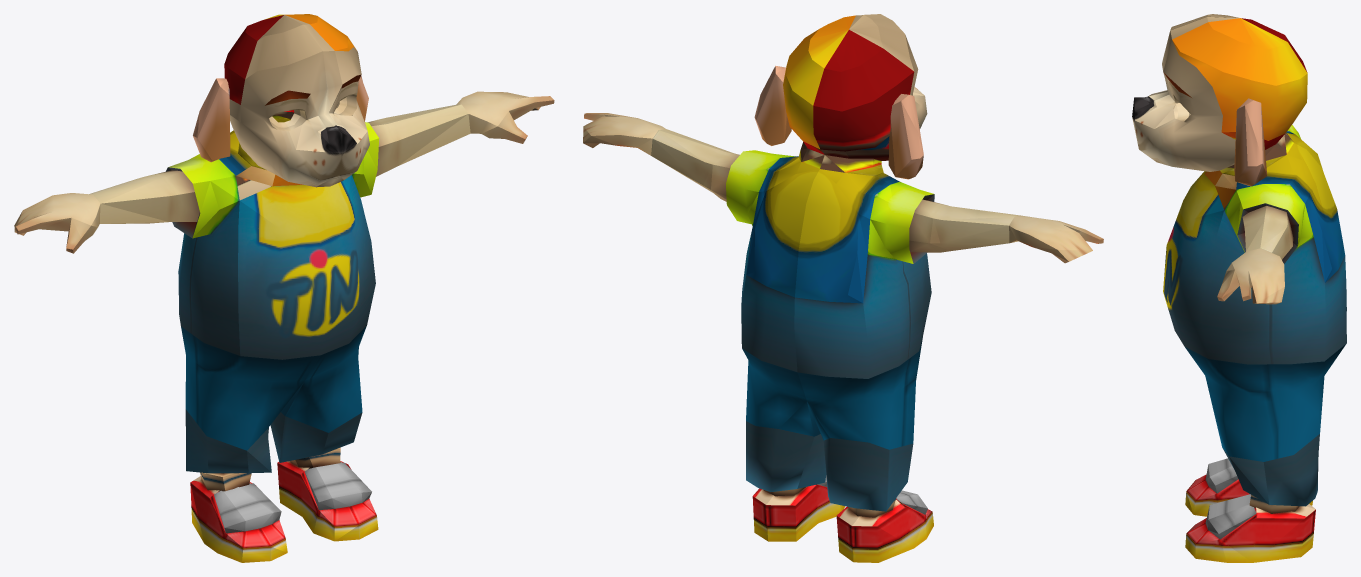
The model's file is TinModeloBodyfbx.fbx.
The picture shows the model from 3 angles, left to right: view 1: azimuth 30°, elevation 25°; view 2: azimuth 150°, elevation 25°; view 3: azimuth 270°, elevation 25°; orthographic projection. The views are drawn at different scales.
Visible parts, largest first — view 1: King; view 2: King; view 3: King.
Boxes of the visible parts, x1=… form: King: x1=14, y1=14, x2=554, y2=562; King: x1=583, y1=14, x2=1103, y2=562; King: x1=1132, y1=14, x2=1346, y2=562.
Size of the model in its own units: 246 by 227 by 86.75.
